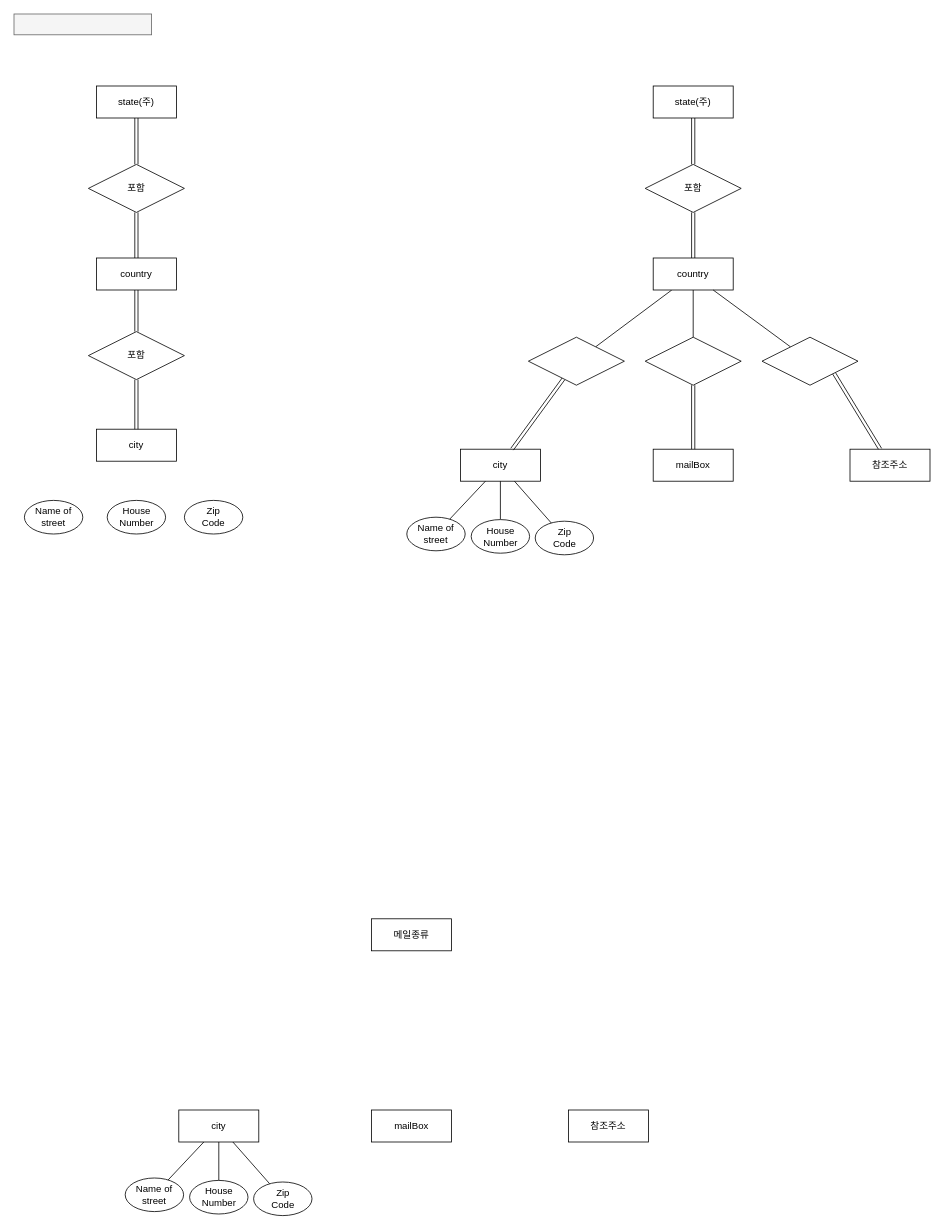
Image size: 944x1230. Some labels were removed from this diagram. The shapes that lost their labels are listed below. From the top down, each one's centre as x and y in pixels, then its label:
At point (82, 24): "retion > state > country > city".
At point (576, 360): "도시정보".
At point (692, 360): "사서함정보".
At point (809, 360): "참조정보".
